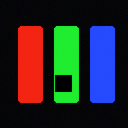1 square: (55, 75, 71, 91)
